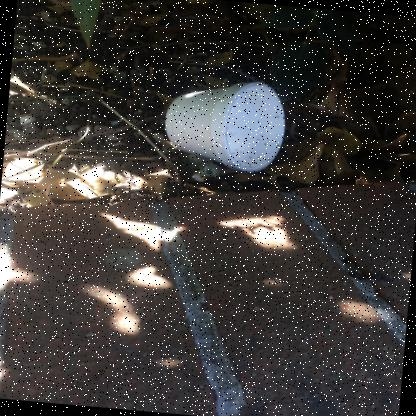Foam cup: (165, 82, 285, 172)
